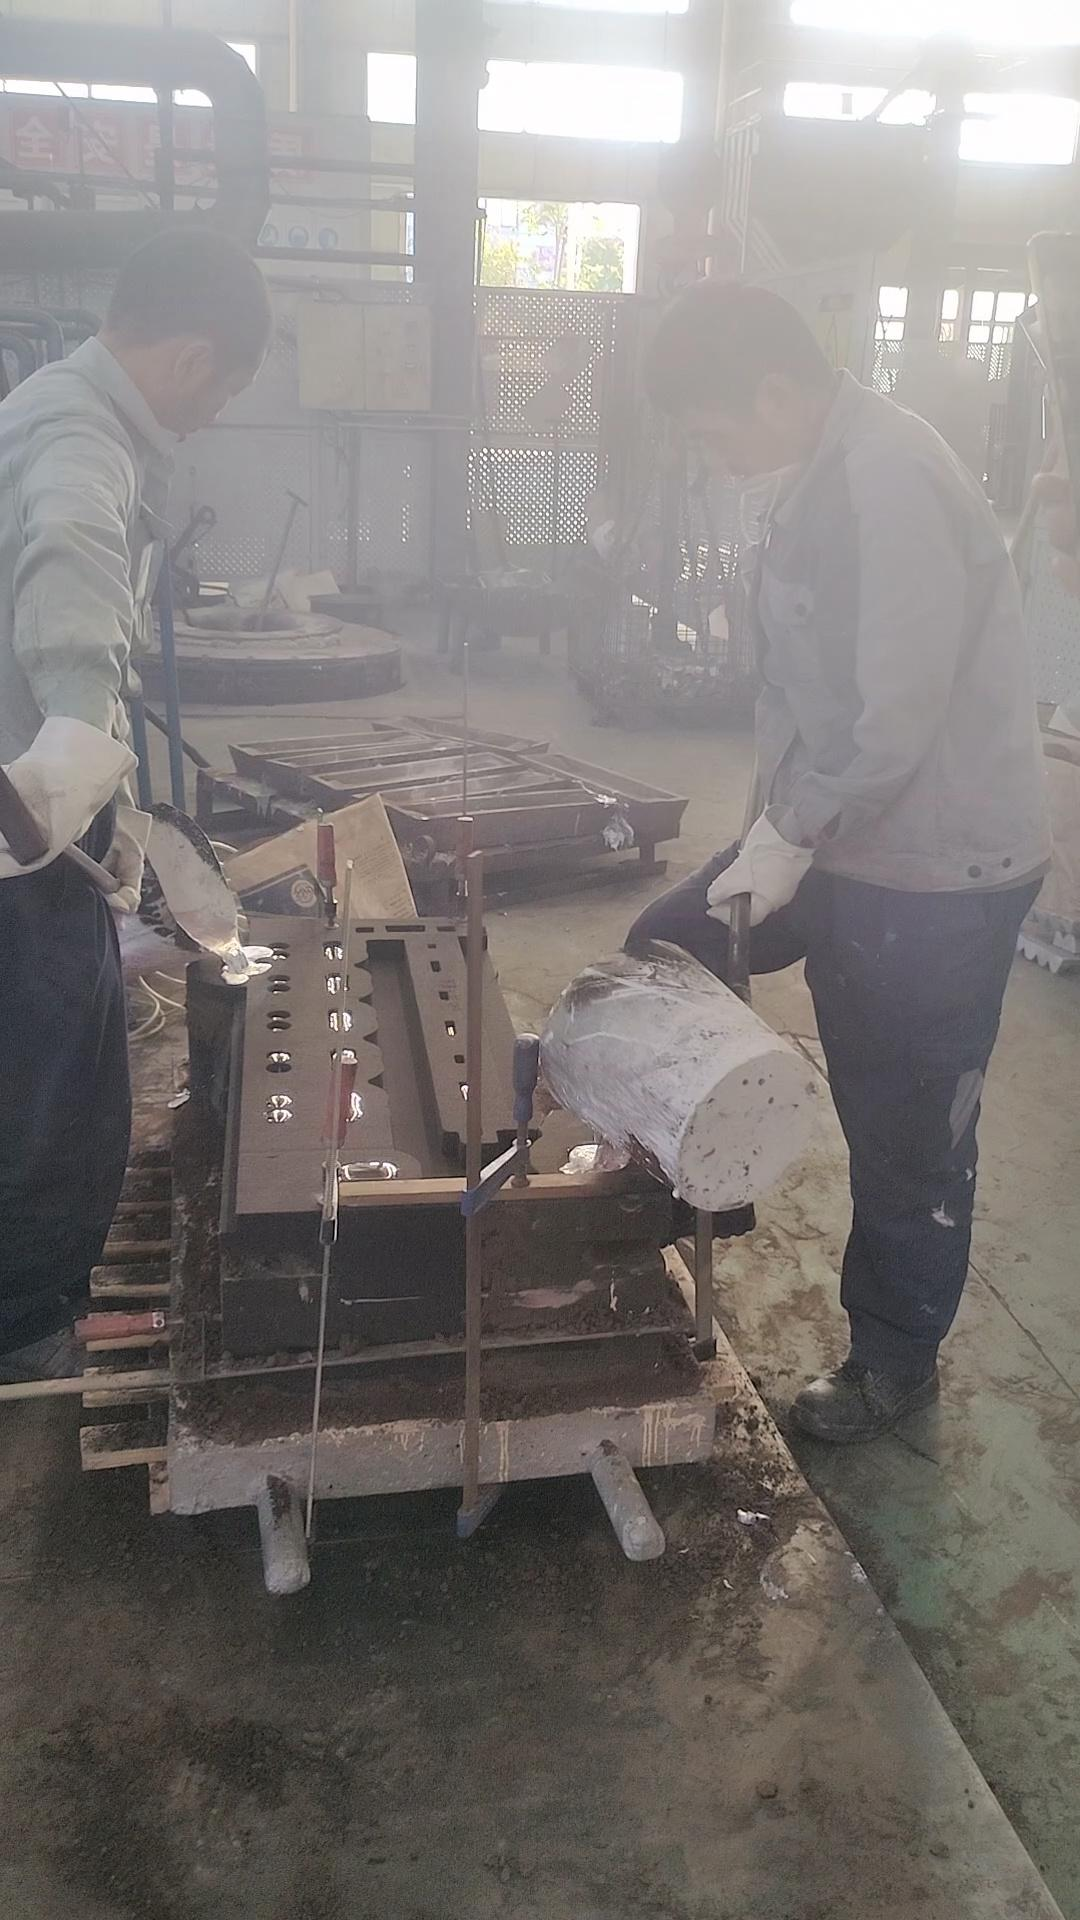pouring hole: (568, 1143, 628, 1172), (225, 956, 269, 977)
